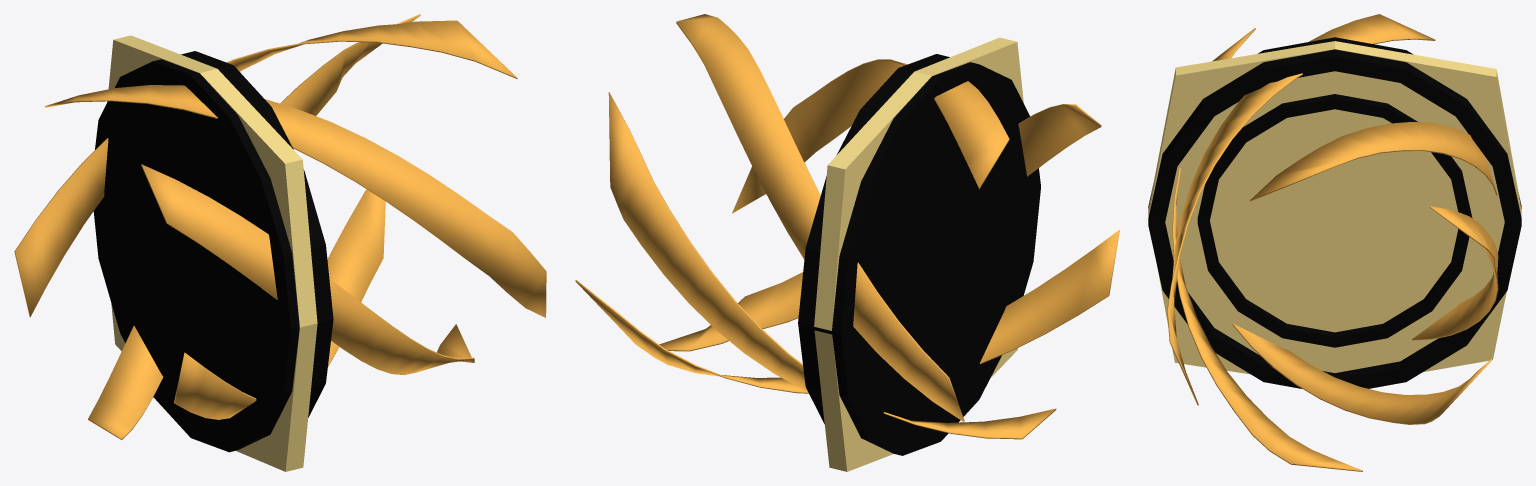
Rendered from EmissorLuz 1.fbx.
The picture shows the model from 3 angles, left to right: view 1: azimuth 30°, elevation 25°; view 2: azimuth 150°, elevation 25°; view 3: azimuth 270°, elevation 25°; orthographic projection. The views are drawn at different scales.
Parts seen in each view (by area): view 1: EmissoLuz, Circle.008, BaseEmissor; view 2: EmissoLuz, Circle.008, BaseEmissor; view 3: BaseEmissor, EmissoLuz, Circle.008, Circle.007.
Boxes of the visible parts, x1=… form: EmissoLuz: x1=14, y1=14, x2=546, y2=439; Circle.008: x1=93, y1=51, x2=333, y2=452; BaseEmissor: x1=107, y1=35, x2=317, y2=471; EmissoLuz: x1=575, y1=14, x2=1119, y2=439; Circle.008: x1=798, y1=54, x2=1040, y2=455; BaseEmissor: x1=814, y1=37, x2=1023, y2=471; BaseEmissor: x1=1148, y1=41, x2=1521, y2=374; EmissoLuz: x1=1167, y1=14, x2=1498, y2=471; Circle.008: x1=1148, y1=37, x2=1521, y2=388; Circle.007: x1=1197, y1=94, x2=1472, y2=347.
Size of the model in its own units: 64.56 by 59.9 by 59.86.
